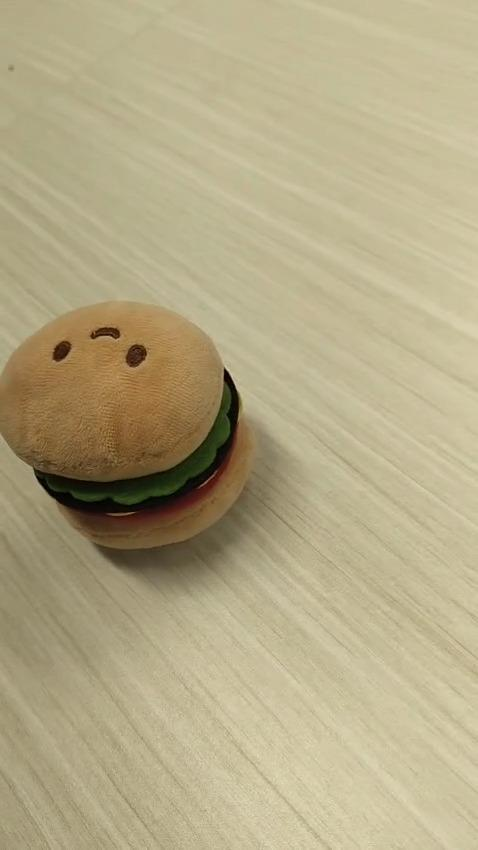hamburger: (0, 298, 255, 551)
